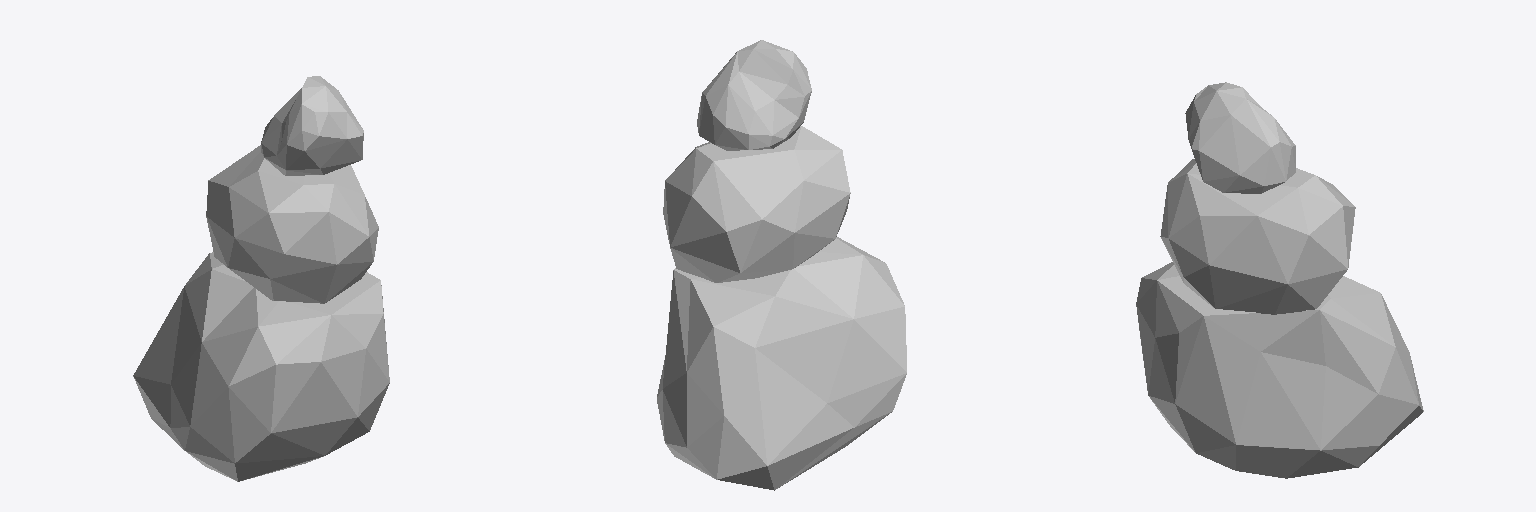
File: stos.obj
3 views of the same model, side by side, from view 1: azimuth 30°, elevation 25°; view 2: azimuth 150°, elevation 25°; view 3: azimuth 270°, elevation 25° (orthographic).
Visible parts, largest first — view 1: rock.014; view 2: rock.014; view 3: rock.014.
Part boxes in pixels (left/top/right/bottom): rock.014: left=133, top=76, right=389, bottom=481; rock.014: left=657, top=40, right=906, bottom=490; rock.014: left=1136, top=82, right=1423, bottom=478.
Bounding box in the file's own units: 14.03 × 24.18 × 17.05.